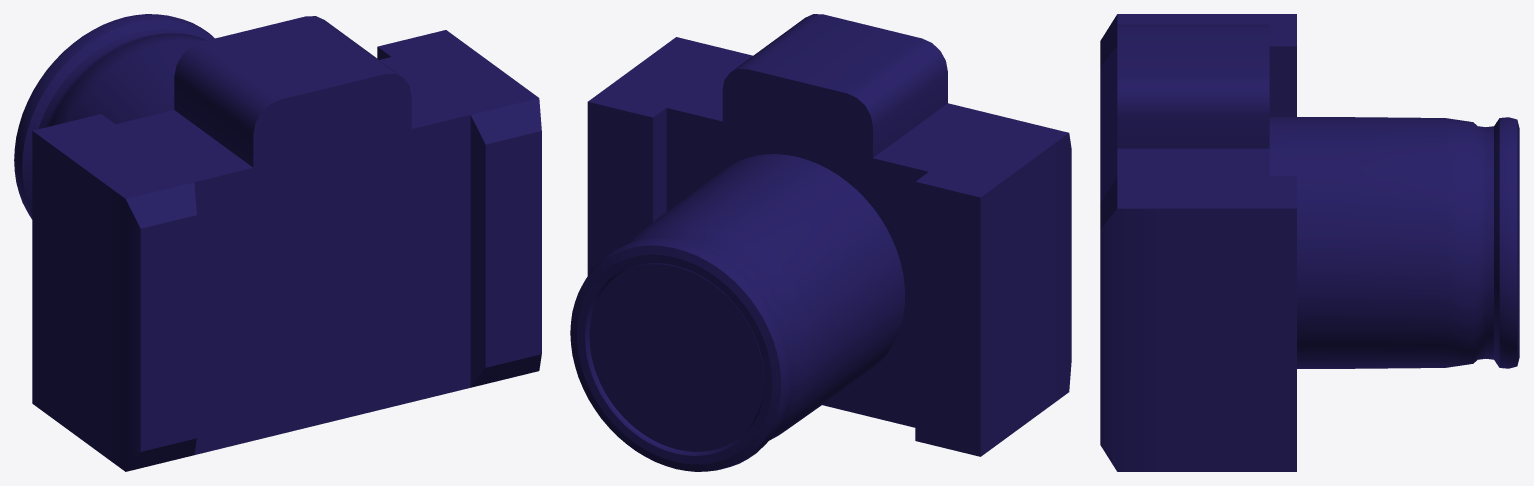
The model's file is camera.glb.
3 renders of one model, left to right at view 1: azimuth 30°, elevation 25°; view 2: azimuth 150°, elevation 25°; view 3: azimuth 270°, elevation 25°, orthographic. The views are drawn at different scales.
Visible parts, largest first — view 1: Cube; view 2: Cube; view 3: Cube.
Part boxes in pixels (box(x1,y1,x2,y2)): Cube: box(14, 14, 541, 471); Cube: box(570, 14, 1071, 471); Cube: box(1100, 14, 1519, 471).
Size of the model in its own units: 3.17 by 2.45 by 2.89.
